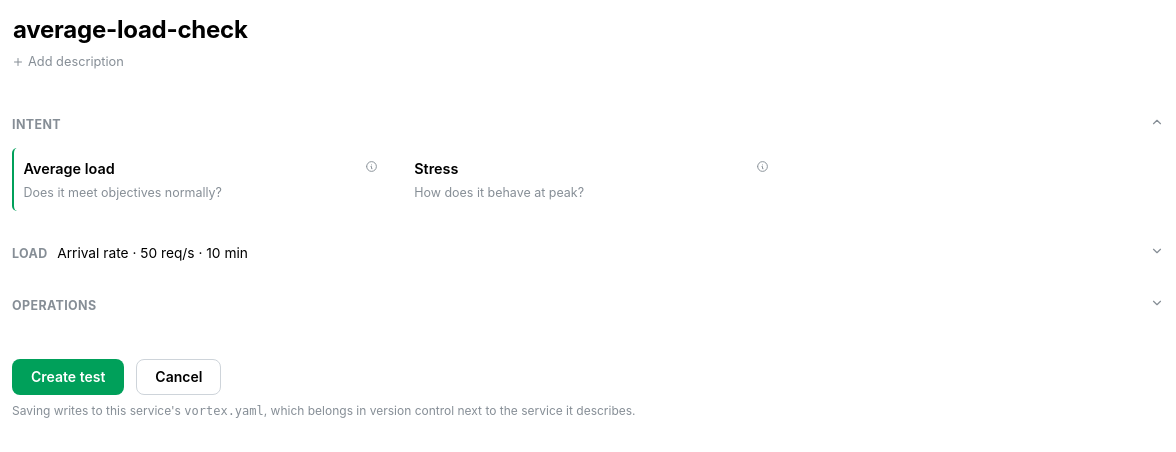
it: the inline test composer › creating: requires a name before it will submit
Step 1. Clear the field named "Name" → point(588, 30), box [12,12,1164,48]
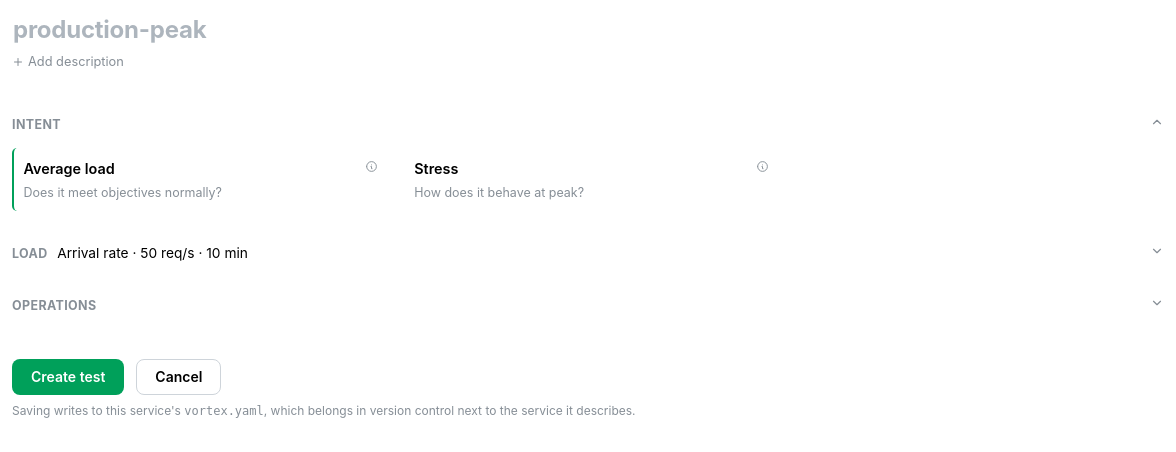
Step 2. Click the button "Create test" → point(68, 377), box [12,359,124,395]
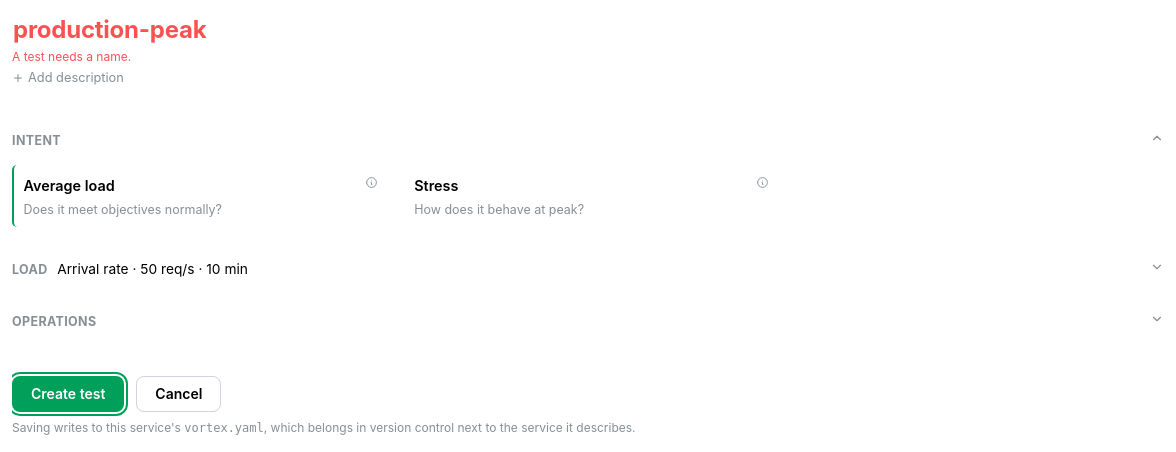
Expected: the text "A test needs a name." is shown, [12,49,131,64]
